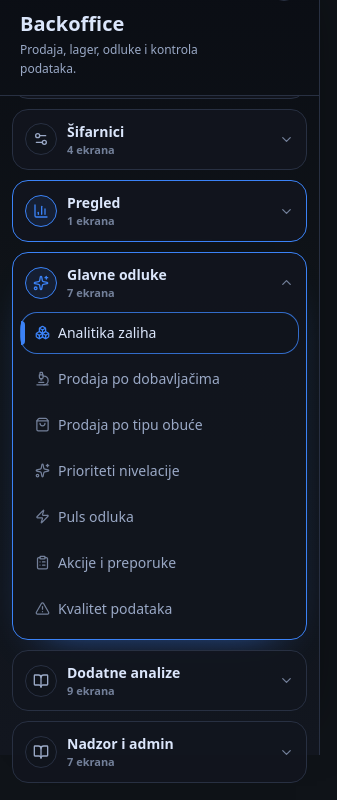
Test case: Sidebar › keeps supplier aliases hidden while exposing canonical category analyses
The image size is (337, 800).
(page scrolled)
Expected: the link "Prodaja po tipu obuće" is shown, x1=35 y1=415 x2=203 y2=434
Step 1. Click the button "Dodatne analize 9 ekrana" → coordinates (160, 681), box x1=13 y1=651 x2=306 y2=710
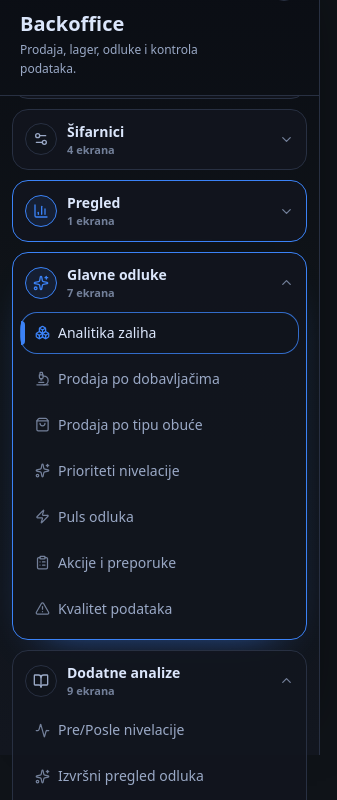
Result: the link "Pre/Posle nivelacije" is shown at x1=35 y1=720 x2=184 y2=739
